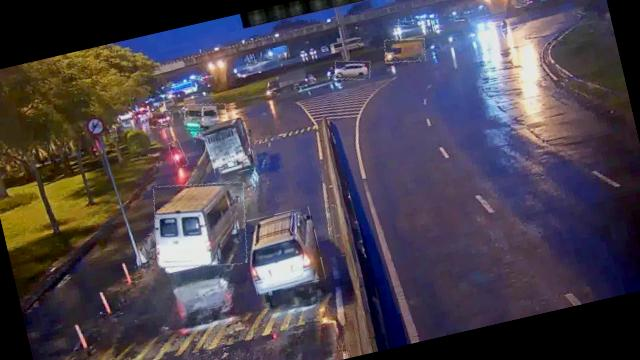Bike: (169, 139, 188, 168)
Bus: (144, 172, 256, 278), (182, 98, 229, 134)
Car: (240, 206, 326, 294), (333, 55, 373, 84), (148, 108, 174, 130)
Truck: (203, 117, 256, 178), (382, 34, 428, 68)
